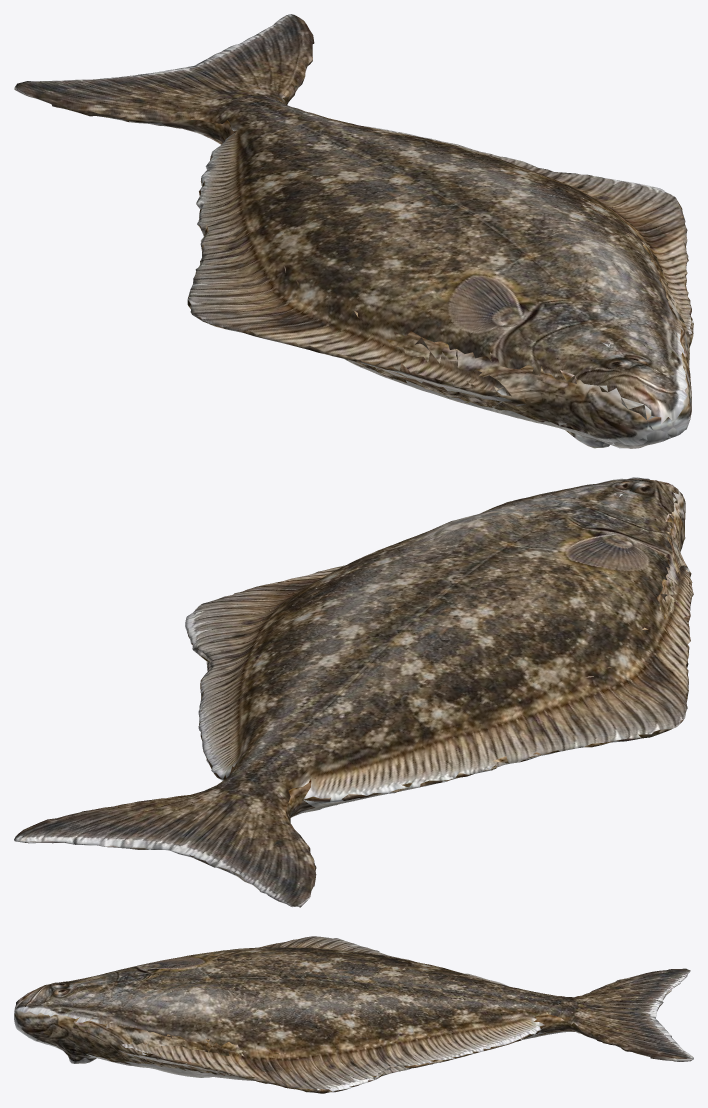
File: fish_halibut.glb
3 renders of one model, top to bottom at view 1: azimuth 30°, elevation 25°; view 2: azimuth 150°, elevation 25°; view 3: azimuth 270°, elevation 25°, orthographic. The views are drawn at different scales.
Visible parts, largest first — view 1: orient; view 2: orient; view 3: orient.
Part boxes in pixels (x1,y1,x2,y2): orient: [14, 14, 693, 448]; orient: [14, 477, 693, 907]; orient: [14, 936, 693, 1093].
Bounding box in the file's own units: 1.05 × 0.2671 × 1.94.
1 material, 1 textured.
